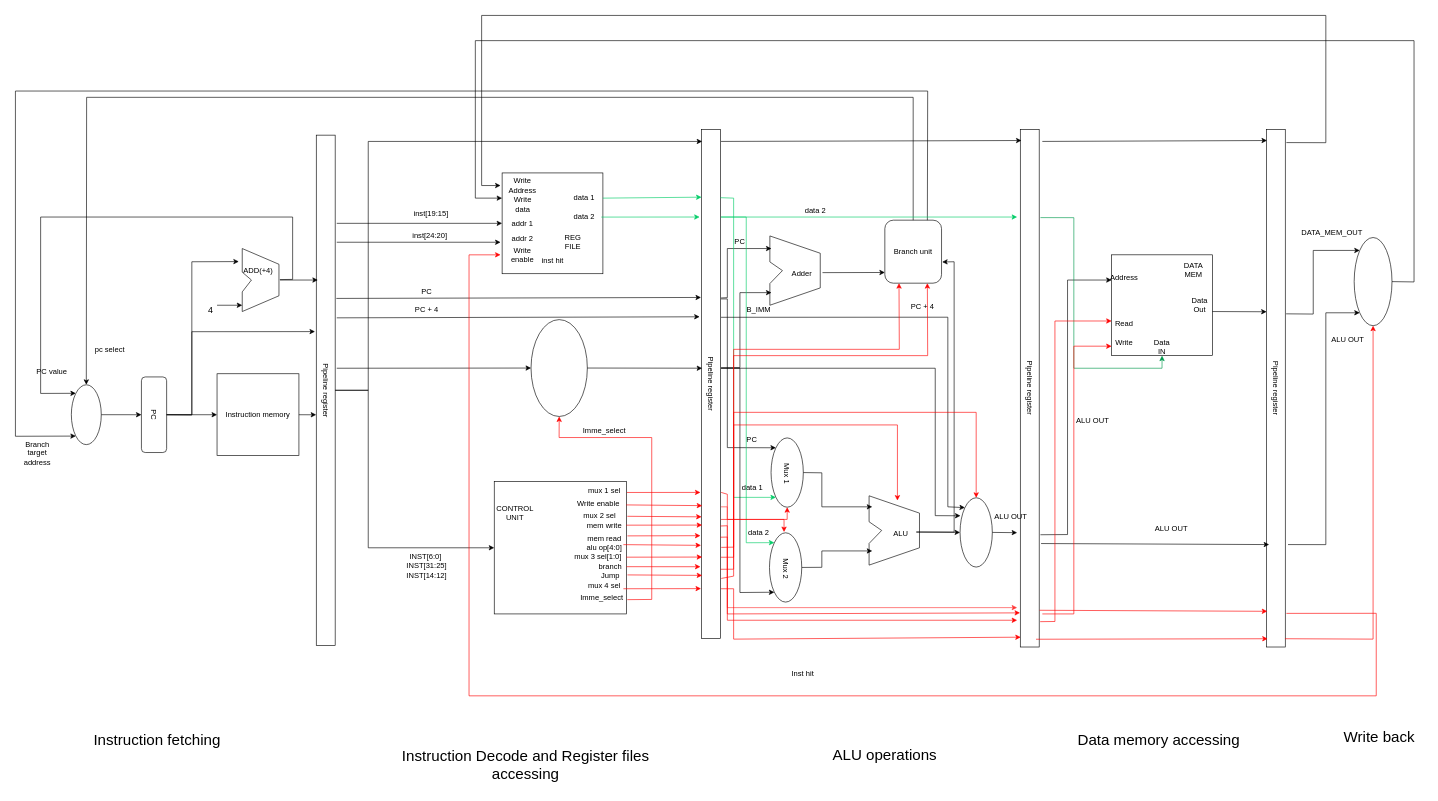
The diagram is 1438 pixels wide and 801 high, and some of its shapes have lost their labels. Here are the shapes that lost their labels. From the top down, the box of each, then its label:
(1354, 237, 1392, 326): mux 4
(530, 319, 587, 416): imm gen
(71, 384, 101, 445): Mux
(959, 497, 992, 567): Mux 3
